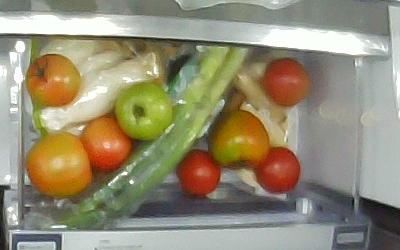tomato: (23, 130, 91, 197), (205, 107, 269, 169), (113, 80, 173, 139), (77, 113, 132, 171), (24, 52, 81, 107), (261, 57, 310, 106), (174, 147, 221, 196), (254, 145, 300, 193)
